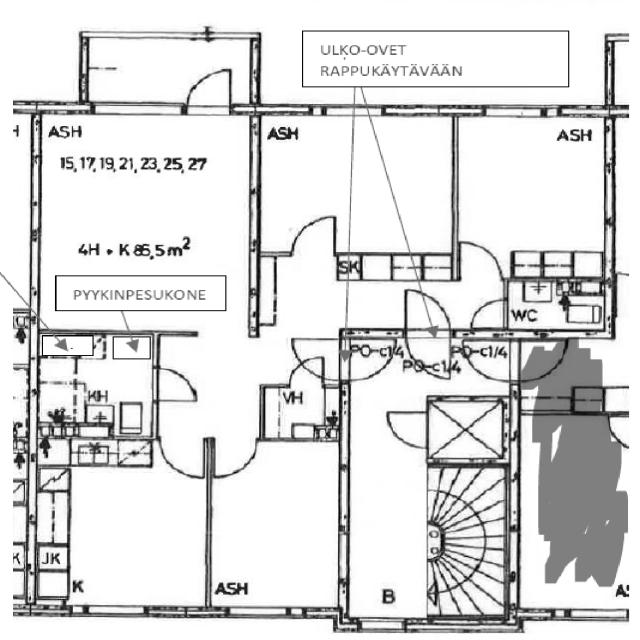door: (182, 68, 234, 115), (462, 343, 517, 387), (517, 340, 568, 386), (288, 214, 339, 259), (348, 339, 396, 383), (402, 289, 449, 333), (455, 239, 500, 283), (209, 437, 254, 481), (158, 438, 206, 479), (152, 365, 201, 405), (385, 410, 430, 451), (467, 297, 508, 332), (292, 352, 327, 380)
window: (92, 97, 184, 119), (482, 100, 550, 122), (222, 603, 292, 622), (81, 602, 148, 620), (378, 104, 444, 122), (566, 606, 628, 625), (352, 615, 410, 635), (260, 102, 320, 118), (558, 103, 602, 121)
zone: (257, 110, 455, 254), (453, 112, 615, 276), (43, 456, 212, 611), (205, 442, 346, 616), (34, 334, 156, 440), (510, 511, 623, 617), (503, 278, 608, 336), (260, 381, 342, 441), (432, 398, 509, 459)
